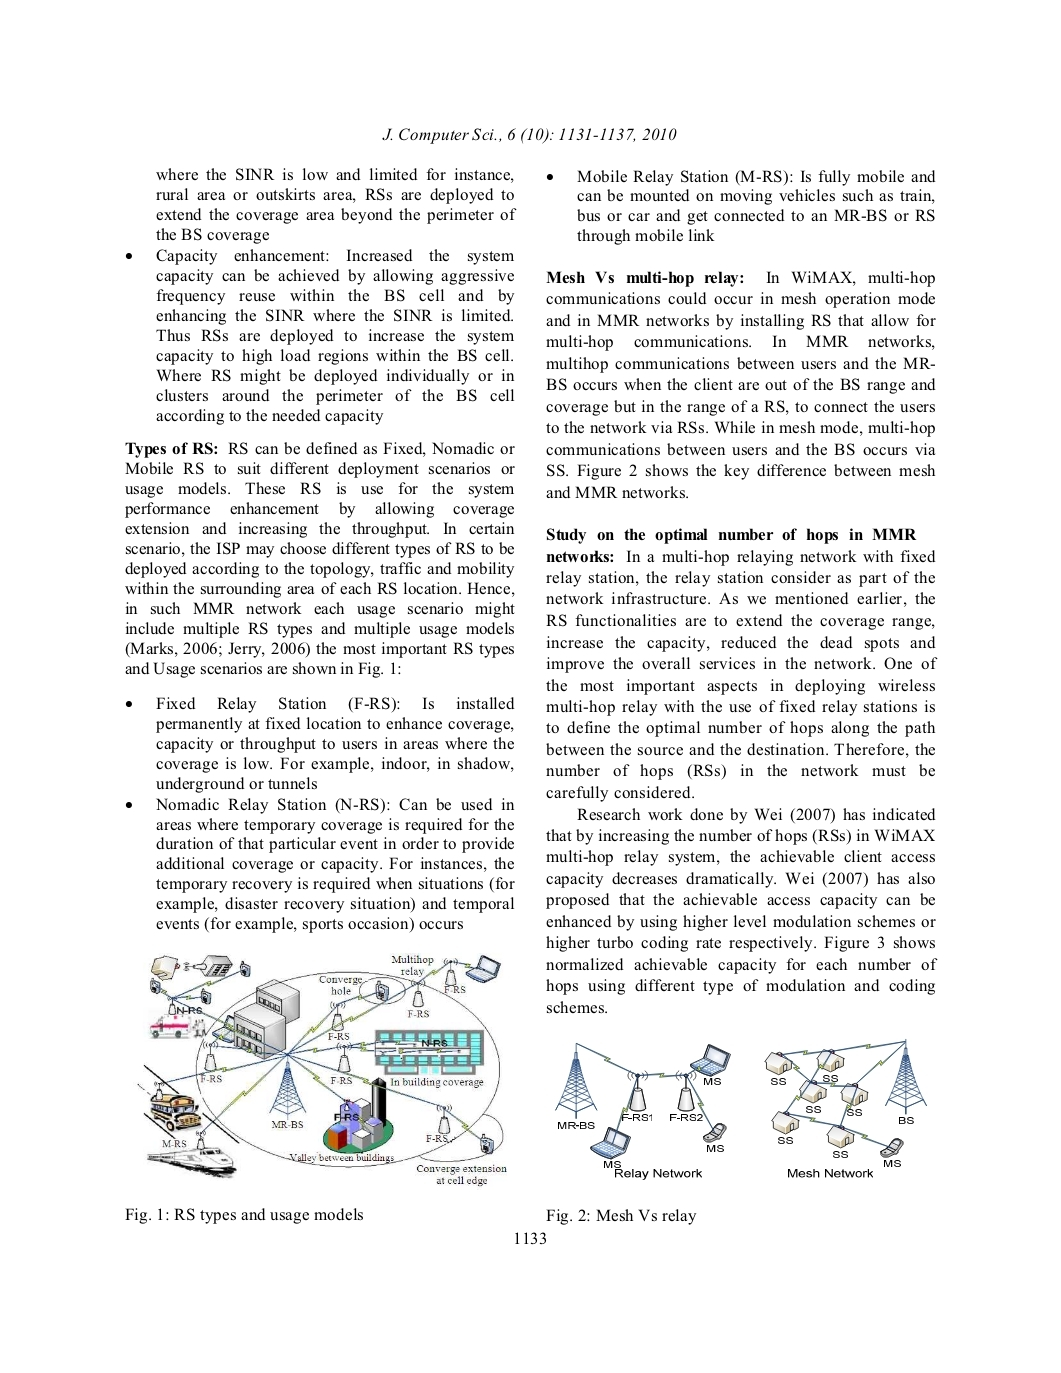figure: (137, 952, 506, 1187), (555, 1043, 730, 1179), (765, 1039, 926, 1177)
